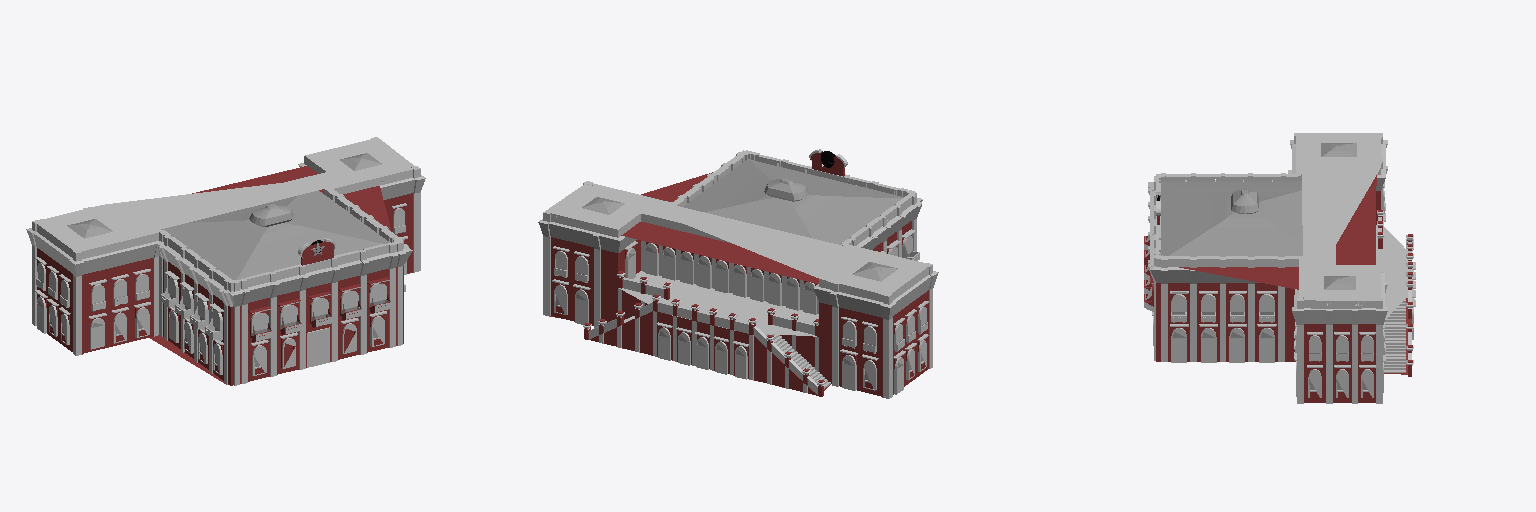
Rendered from palacio.obj.
3 renders of one model, left to right at view 1: azimuth 30°, elevation 25°; view 2: azimuth 150°, elevation 25°; view 3: azimuth 270°, elevation 25°, orthographic.
Visible parts, largest first — view 1: Palácio_Cruz_e_Souza_-_Corpo_Plano; view 2: Palácio_Cruz_e_Souza_-_Corpo_Plano; view 3: Palácio_Cruz_e_Souza_-_Corpo_Plano.
Boxes of the visible parts, x1=… form: Palácio_Cruz_e_Souza_-_Corpo_Plano: x1=26, y1=137, x2=425, y2=385; Palácio_Cruz_e_Souza_-_Corpo_Plano: x1=538, y1=149, x2=938, y2=398; Palácio_Cruz_e_Souza_-_Corpo_Plano: x1=1144, y1=133, x2=1415, y2=403.
Size of the model in its own units: 9.82 by 3.38 by 6.57.